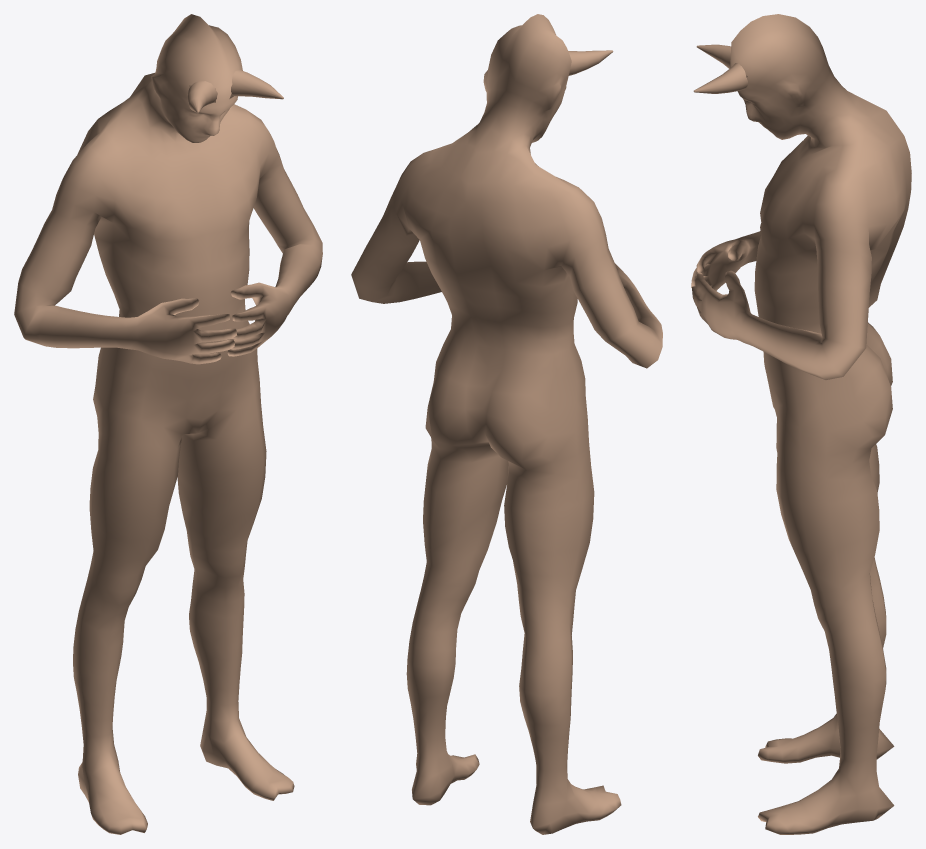
The model's file is Human.fbx.
3 views of the same model, side by side, from view 1: azimuth 30°, elevation 25°; view 2: azimuth 150°, elevation 25°; view 3: azimuth 270°, elevation 25° (orthographic). The views are drawn at different scales.
Parts seen in each view (by area): view 1: humanBody; view 2: humanBody; view 3: humanBody.
Part boxes in pixels (x1,y1,x2,y2): humanBody: [14, 14, 322, 834]; humanBody: [351, 14, 662, 834]; humanBody: [691, 14, 911, 834].
Size of the model in its own units: 72.54 by 182 by 46.64.
